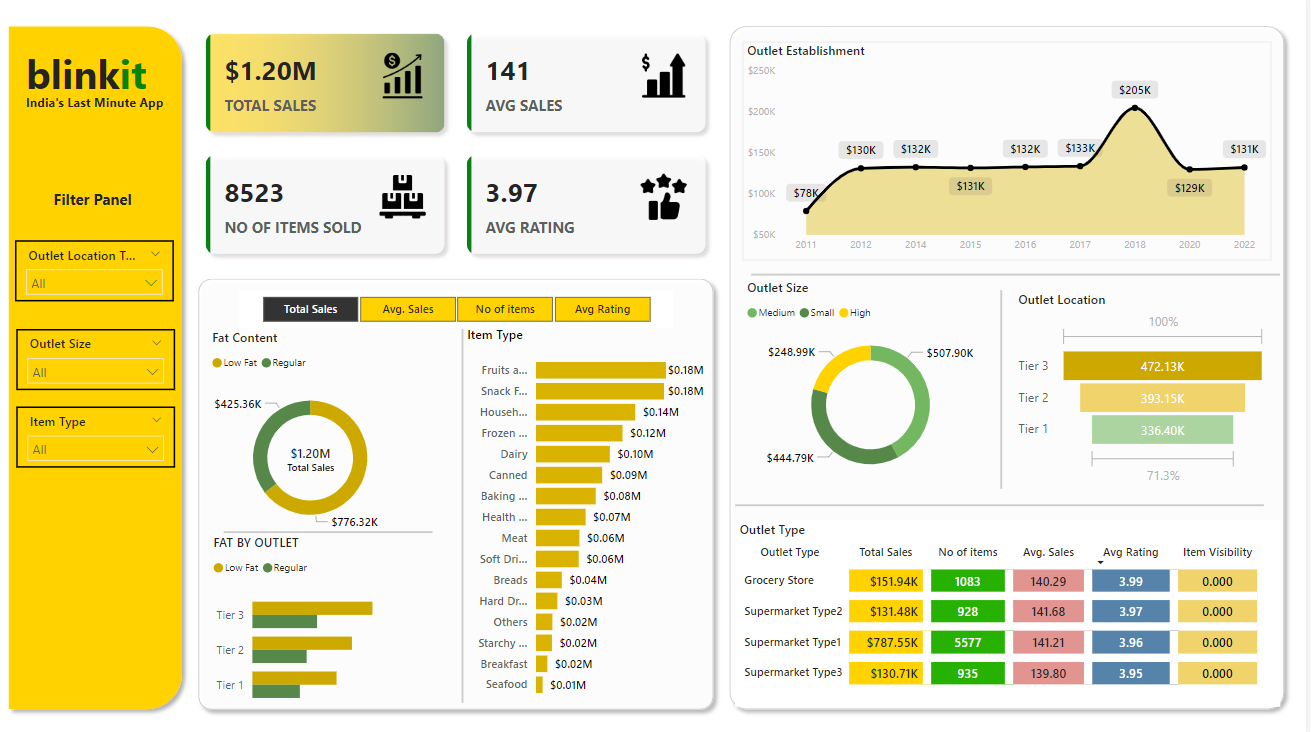

The page's visual inventory and layout, read from the dashboard file:
{"tool":"powerbi","page":{"name":"Page 1","canvas":[1400,800],"ordinal":0},"visuals":[{"type":"shape","box":[0,25.5,204.1,750.4],"z":0},{"type":"textbox","box":[22.8,50.9,158.2,87.1],"z":1000},{"type":"textbox","box":[22.8,101.9,181,36.2],"z":2000},{"type":"cardVisual","fields":{"Data":["BlinkIT Grocery Data.Total Sales","BlinkIT Grocery Data.Avg. Sales","BlinkIT Grocery Data.No of items","BlinkIT Grocery Data.Avg Rating"]},"box":[204.1,25.5,570.3,270.2],"z":3000},{"type":"shape","box":[204.1,295.7,570.3,480.3],"z":4000},{"type":"donutChart","title":"Fat Content","fields":{"Y":["BlinkIT Grocery Data.Total Sales"],"Category":["BlinkIT Grocery Data.Item Fat Content"]},"box":[222.1,358.7,220.6,231.1],"z":5000},{"type":"slicer","fields":{"Values":["Metrics   .Metrics   "]},"box":[256.6,318.2,465.3,40.5],"z":6000},{"type":"cardVisual","fields":{"Data":["BlinkIT Grocery Data.Total Sales"]},"box":[276.2,451.8,114.1,94.6],"z":7000},{"type":"clusteredBarChart","title":"FAT BY OUTLET","fields":{"Y":["BlinkIT Grocery Data.Total Sales"],"Category":["BlinkIT Grocery Data.Outlet Location Type"],"Series":["BlinkIT Grocery Data.Item Fat Content"]},"box":[223.9,579.1,219.8,197.1],"z":8000},{"type":"shape","box":[239.9,564.3,223.9,25.5],"z":9000},{"type":"shape","box":[489.3,359.3,13.4,400.8],"z":10000},{"type":"barChart","title":"Item Type","fields":{"Y":["BlinkIT Grocery Data.Total Sales"],"Category":["BlinkIT Grocery Data.Item Type"]},"box":[496,355.2,264.1,408.8],"z":11000},{"type":"shape","box":[773.5,25.5,612.6,750.7],"z":11001},{"type":"lineChart","title":"Outlet Establishment","fields":{"Y":["BlinkIT Grocery Data.Total Sales"],"Category":["BlinkIT Grocery Data.Outlet Establishment Year"]},"box":[796.3,50.9,567,234.6],"z":11002},{"type":"shape","box":[788.2,536.2,567,24.1],"z":11003},{"type":"donutChart","title":"Outlet Size","fields":{"Y":["BlinkIT Grocery Data.Total Sales"],"Category":["BlinkIT Grocery Data.Outlet Size"]},"box":[796.3,305.6,275,225],"z":11004},{"type":"shape","box":[1067,317.7,13.4,213.1],"z":11005},{"type":"funnel","title":"Outlet Location","fields":{"Y":["Sum(BlinkIT Grocery Data.Sales)"],"Category":["BlinkIT Grocery Data.Outlet Location Type"]},"box":[1087.1,317.7,276.1,213.1],"z":11006},{"type":"shape","box":[806.3,295.5,567,12.1],"z":11007},{"type":"pivotTable","title":"Outlet Type","fields":{"Rows":["BlinkIT Grocery Data.Outlet Type"],"Values":["BlinkIT Grocery Data.Total Sales","BlinkIT Grocery Data.No of items","BlinkIT Grocery Data.Avg. Sales","BlinkIT Grocery Data.Avg Rating","Avg(BlinkIT Grocery Data.Item Visibility)"]},"box":[788.2,564.3,584.5,199.7],"z":11008},{"type":"slicer","fields":{"Values":["BlinkIT Grocery Data.Outlet Location Type"]},"box":[16.1,264.1,170.2,65.7],"z":11009},{"type":"slicer","fields":{"Values":["BlinkIT Grocery Data.Outlet Size"]},"box":[17.4,359.3,170.2,65.7],"z":11010},{"type":"slicer","fields":{"Values":["BlinkIT Grocery Data.Item Type"]},"box":[17.4,442.4,170.2,65.7],"z":11011},{"type":"textbox","box":[52.3,203.8,123.3,37.5],"z":11012}]}

Visuals, with their boxes in screenshot pixels (x1, y1, x2, y2), scaled from the page's 1400x800 canvas onto the 1311x732 screenshot:
shape: (left=0, top=23, right=191, bottom=710)
textbox: (left=21, top=47, right=169, bottom=126)
textbox: (left=21, top=93, right=191, bottom=126)
cardVisual - BlinkIT Grocery Data.Total Sales x BlinkIT Grocery Data.Avg. Sales: (left=191, top=23, right=725, bottom=271)
shape: (left=191, top=271, right=725, bottom=710)
"Fat Content" donutChart: (left=208, top=328, right=415, bottom=540)
slicer - Metrics   .Metrics   : (left=240, top=291, right=676, bottom=328)
cardVisual - BlinkIT Grocery Data.Total Sales: (left=259, top=413, right=365, bottom=500)
"FAT BY OUTLET" clusteredBarChart: (left=210, top=530, right=415, bottom=710)
shape: (left=225, top=516, right=434, bottom=540)
shape: (left=458, top=329, right=471, bottom=695)
"Item Type" barChart: (left=464, top=325, right=712, bottom=699)
shape: (left=724, top=23, right=1298, bottom=710)
"Outlet Establishment" lineChart: (left=746, top=47, right=1277, bottom=261)
shape: (left=738, top=491, right=1269, bottom=513)
"Outlet Size" donutChart: (left=746, top=280, right=1003, bottom=485)
shape: (left=999, top=291, right=1012, bottom=486)
"Outlet Location" funnel: (left=1018, top=291, right=1277, bottom=486)
shape: (left=755, top=270, right=1286, bottom=281)
"Outlet Type" pivotTable: (left=738, top=516, right=1285, bottom=699)
slicer - BlinkIT Grocery Data.Outlet Location Type: (left=15, top=242, right=174, bottom=302)
slicer - BlinkIT Grocery Data.Outlet Size: (left=16, top=329, right=176, bottom=389)
slicer - BlinkIT Grocery Data.Item Type: (left=16, top=405, right=176, bottom=465)
textbox: (left=49, top=186, right=164, bottom=221)
